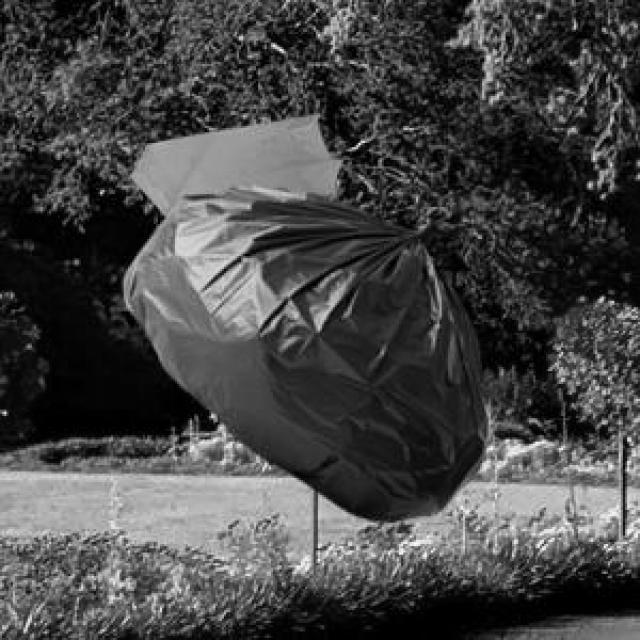miscellaneous trash: (120, 181, 484, 518)
